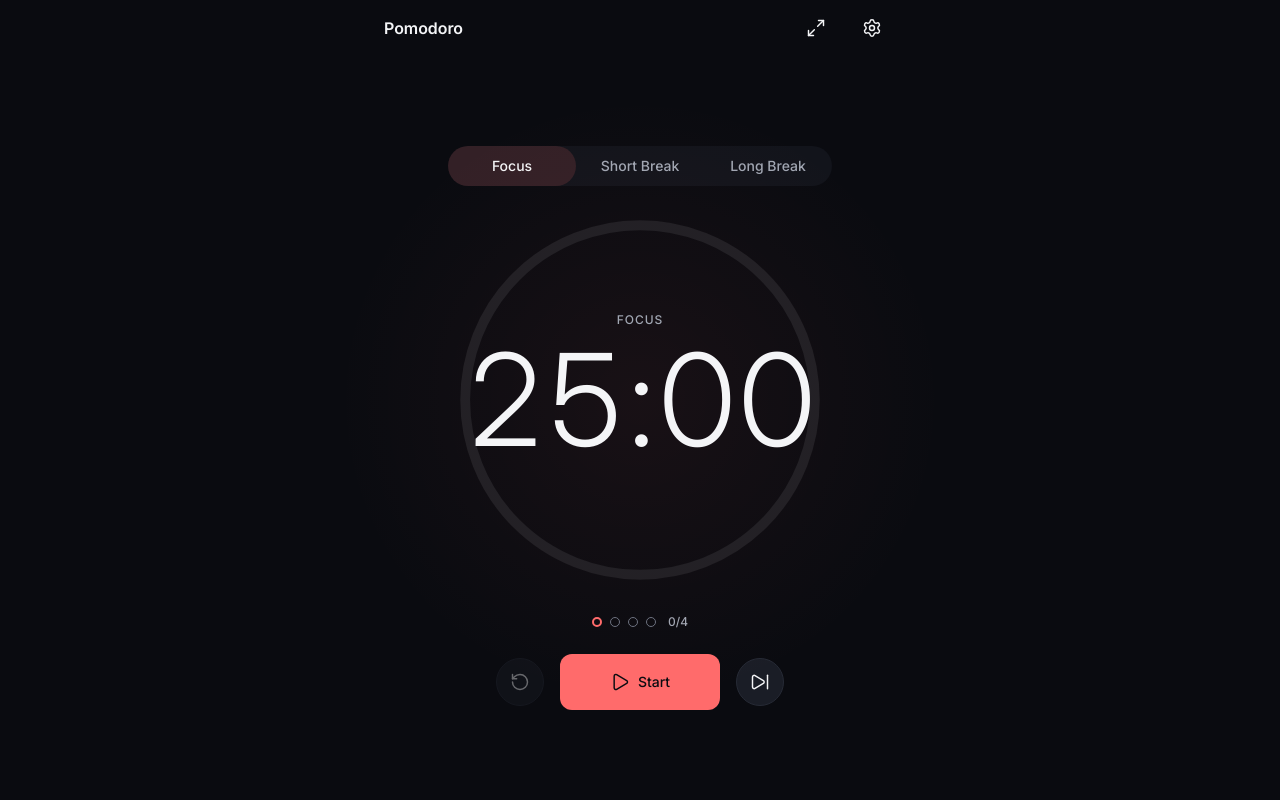
Scenario: Settings notification status (POMO-AC15, POMO-AC25) › default, asked: N2 and the Allow button
Click the button named "Open settings": (872, 28) x1=848 y1=4 x2=896 y2=52
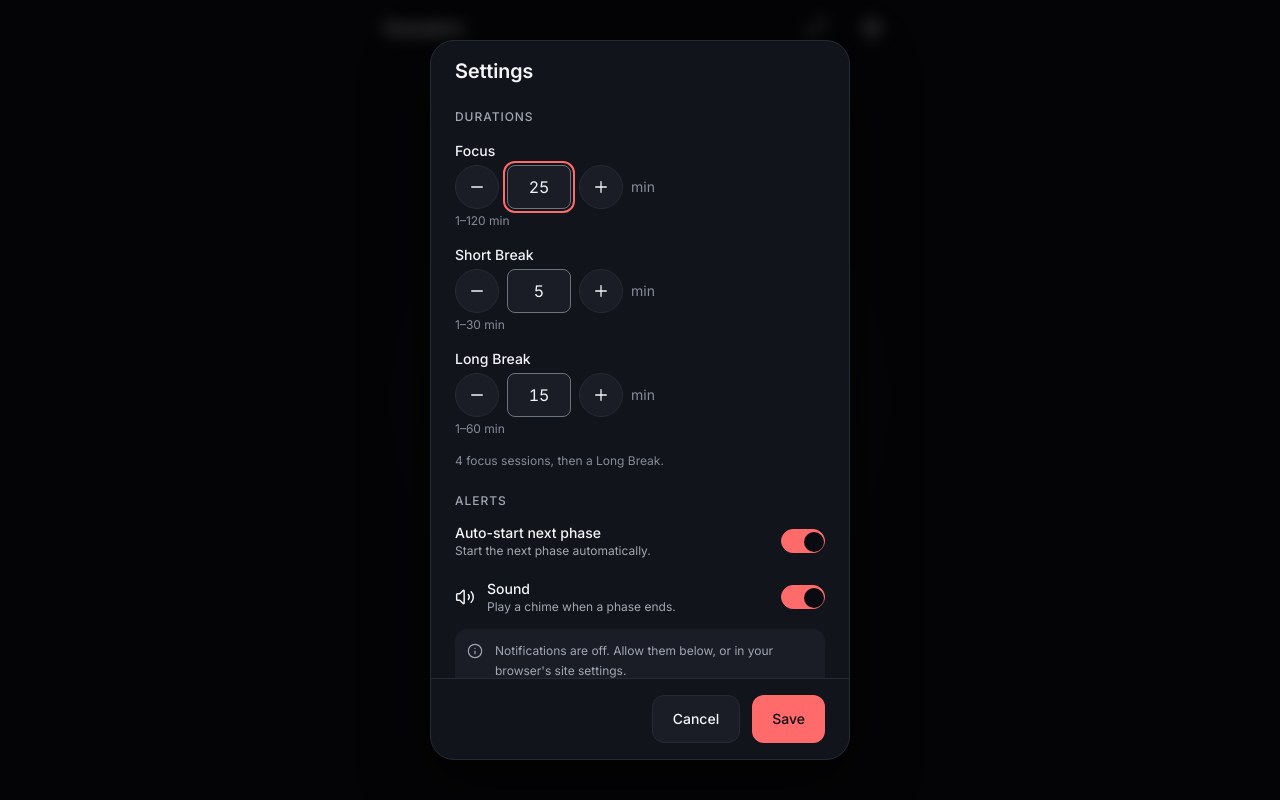
Check: the text "Notifications are off. Allow them below, or in your browser's site settings." is shown, box x1=495 y1=641 x2=813 y2=678
